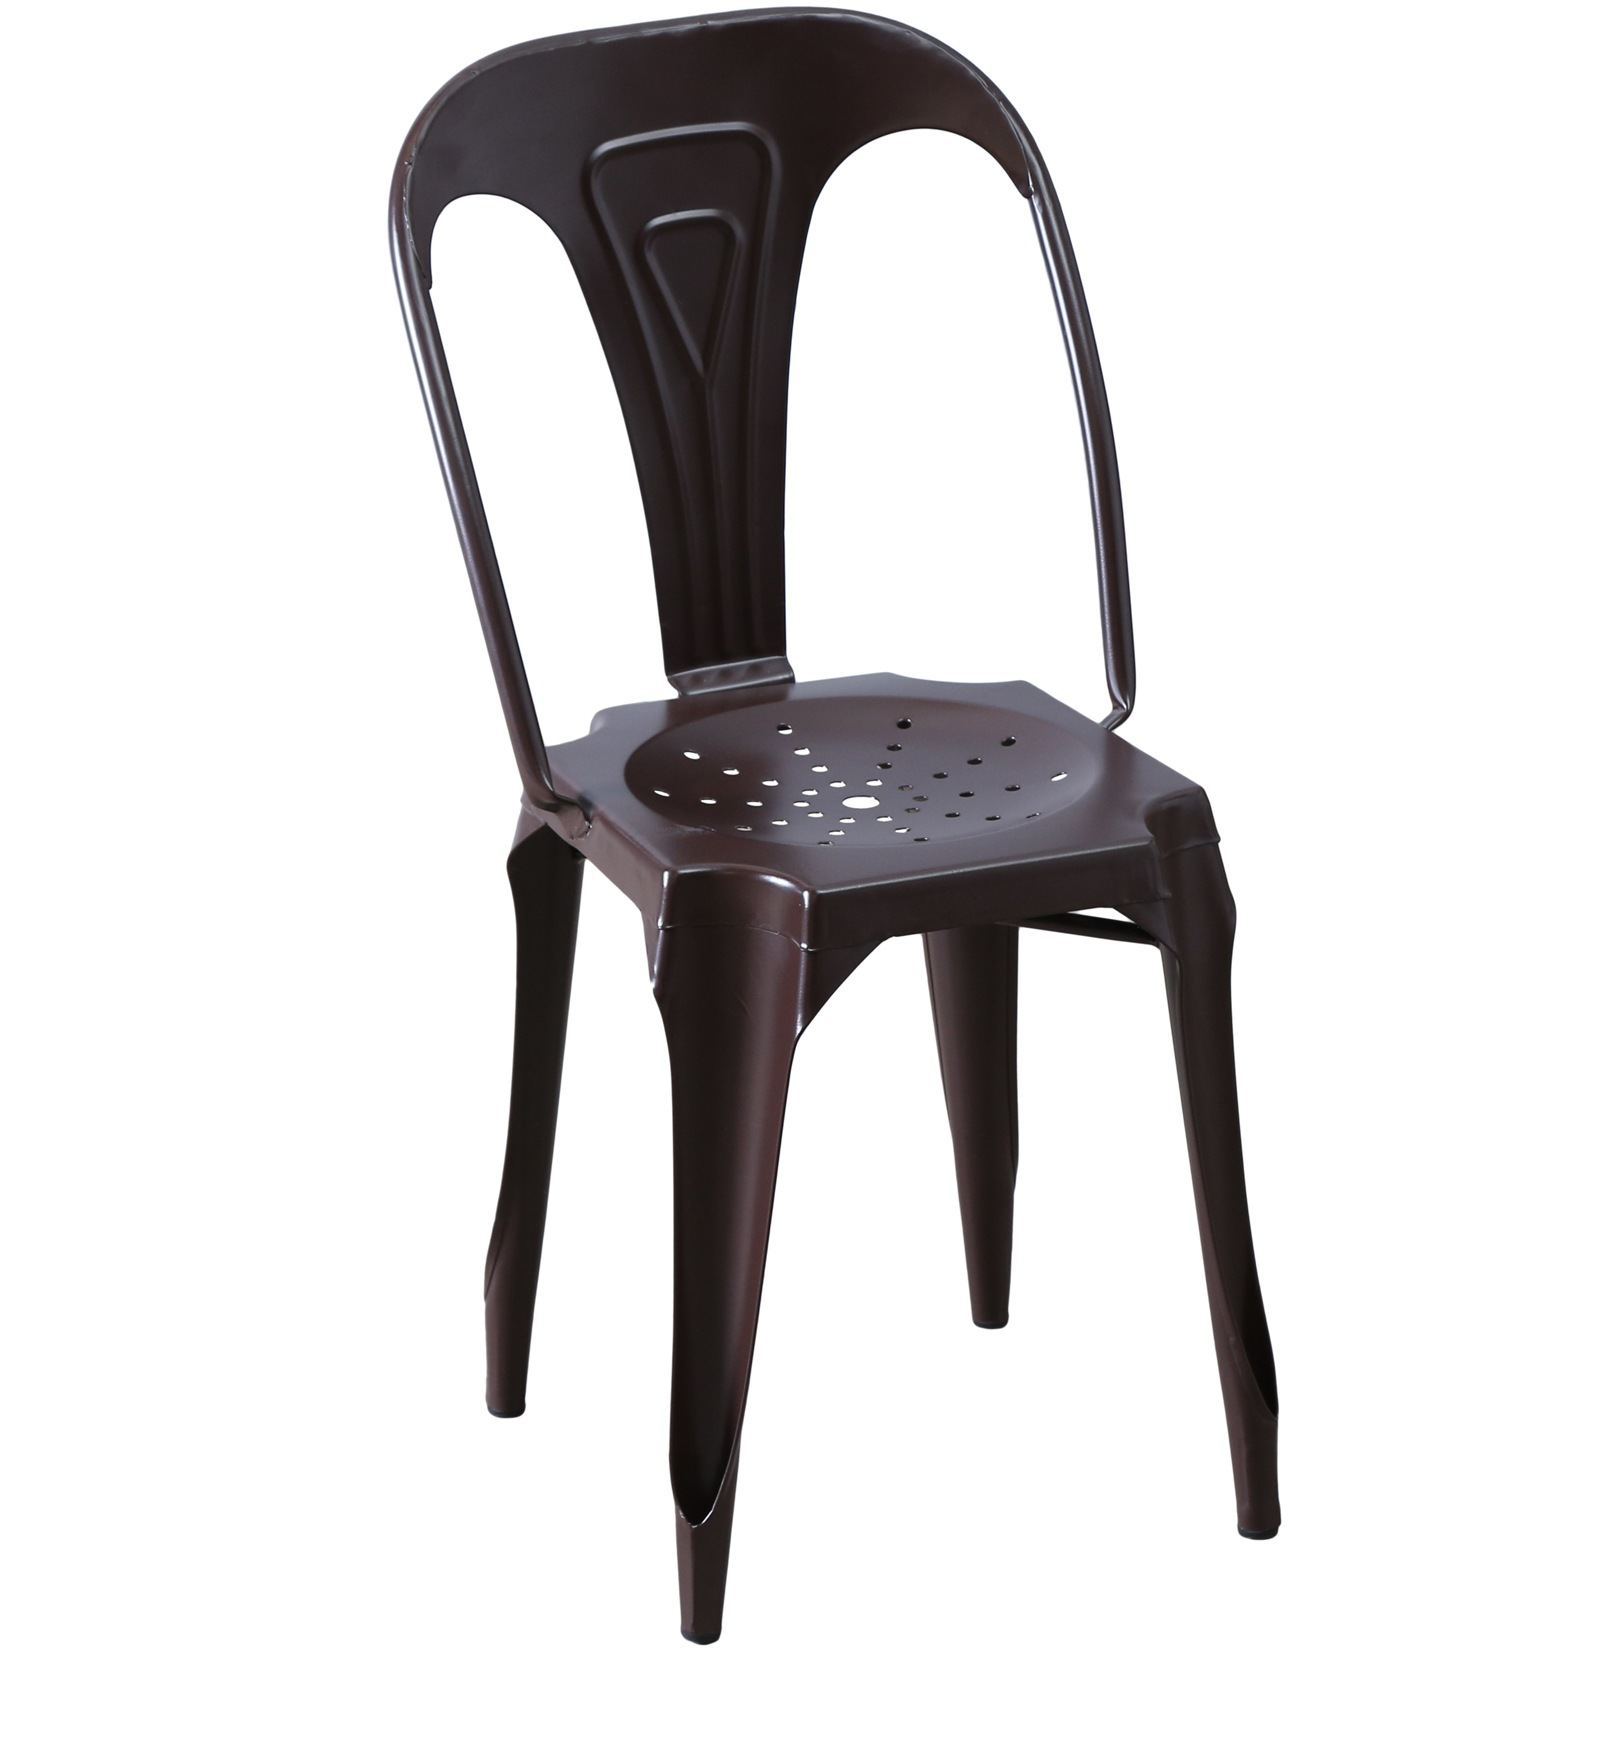Amos Metal Chair in Brown Color by Bohemiana: (314, 9, 1344, 1656)
